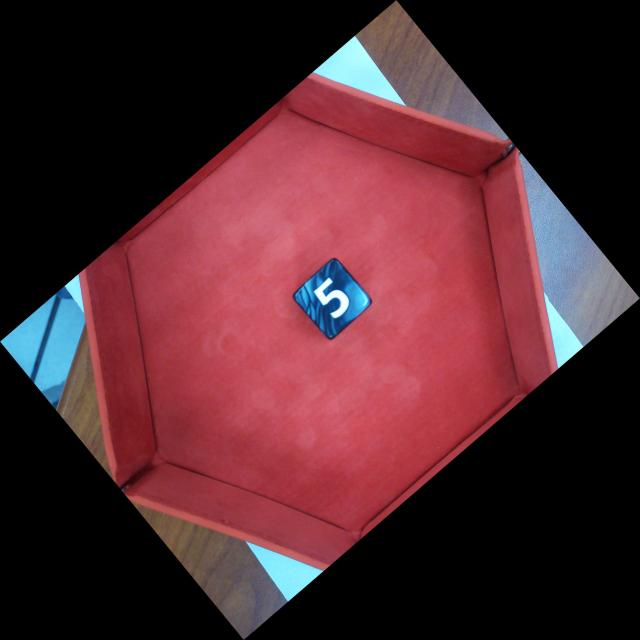dice: (303, 259, 375, 338)
